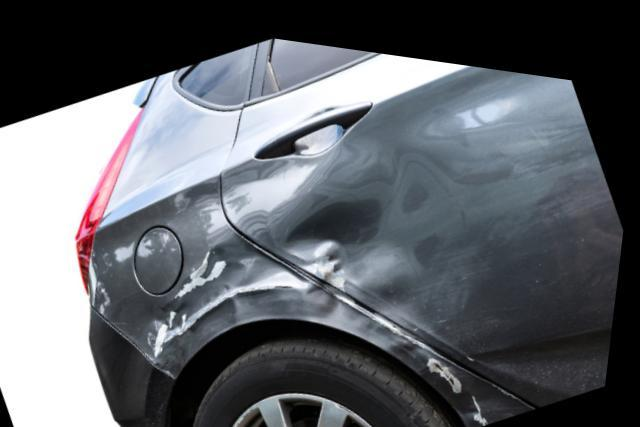dent: (124, 231, 431, 366), (290, 132, 486, 321)
scratch: (433, 340, 520, 414)
